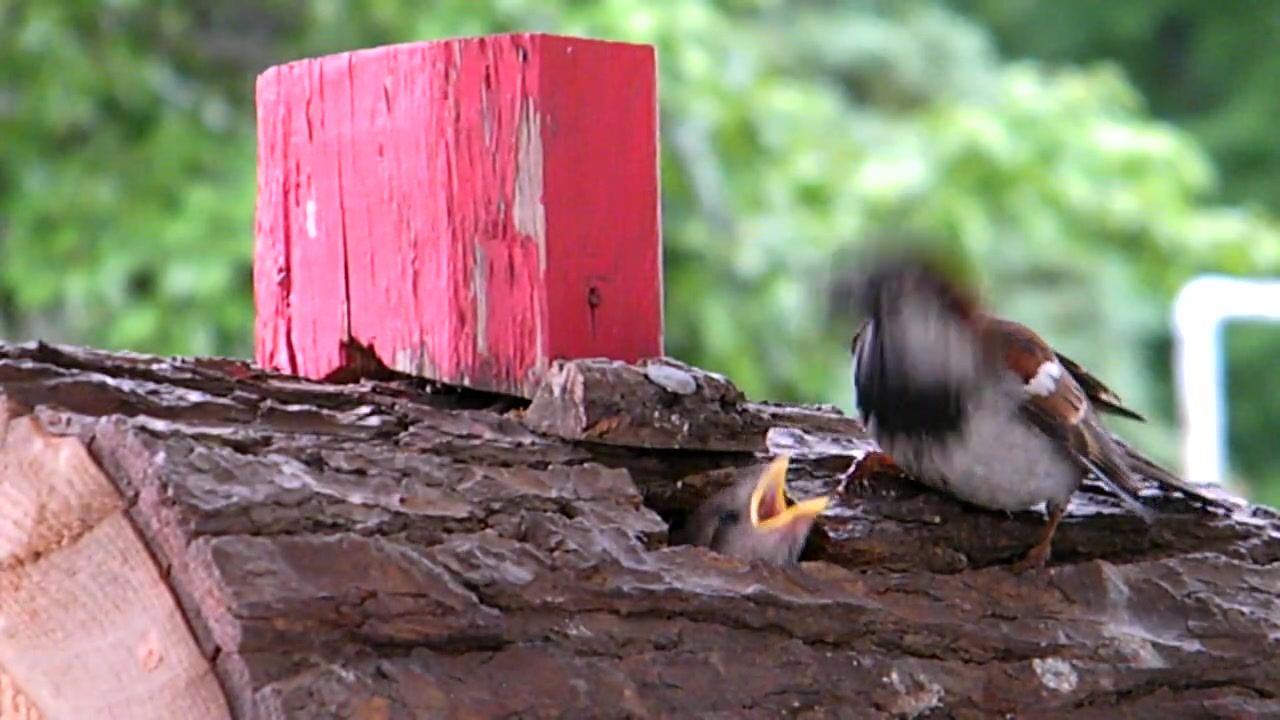bird: (823, 237, 1201, 579)
